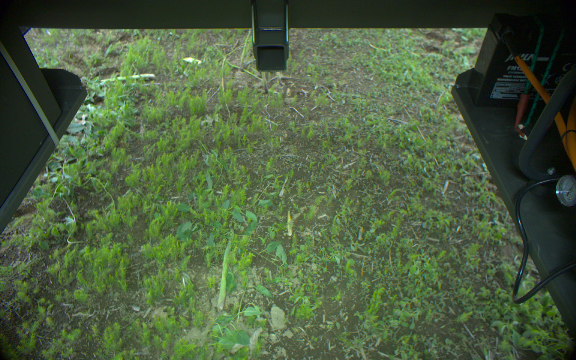aspa: (212, 236, 238, 311), (233, 28, 250, 74), (220, 52, 232, 100)
